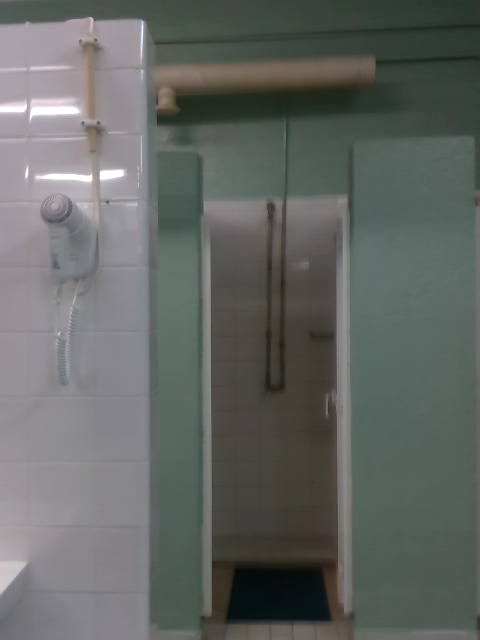open: (335, 219, 353, 611)
